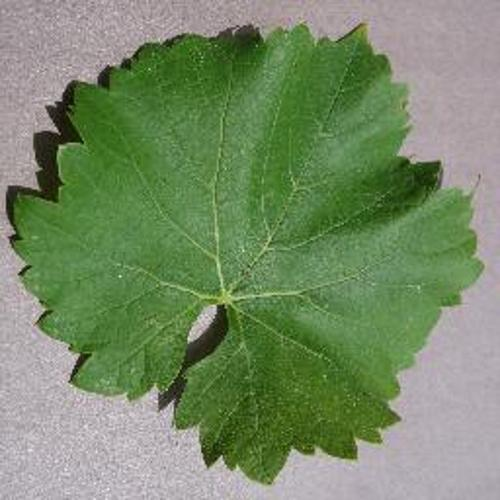Grape: (9, 24, 483, 486)
